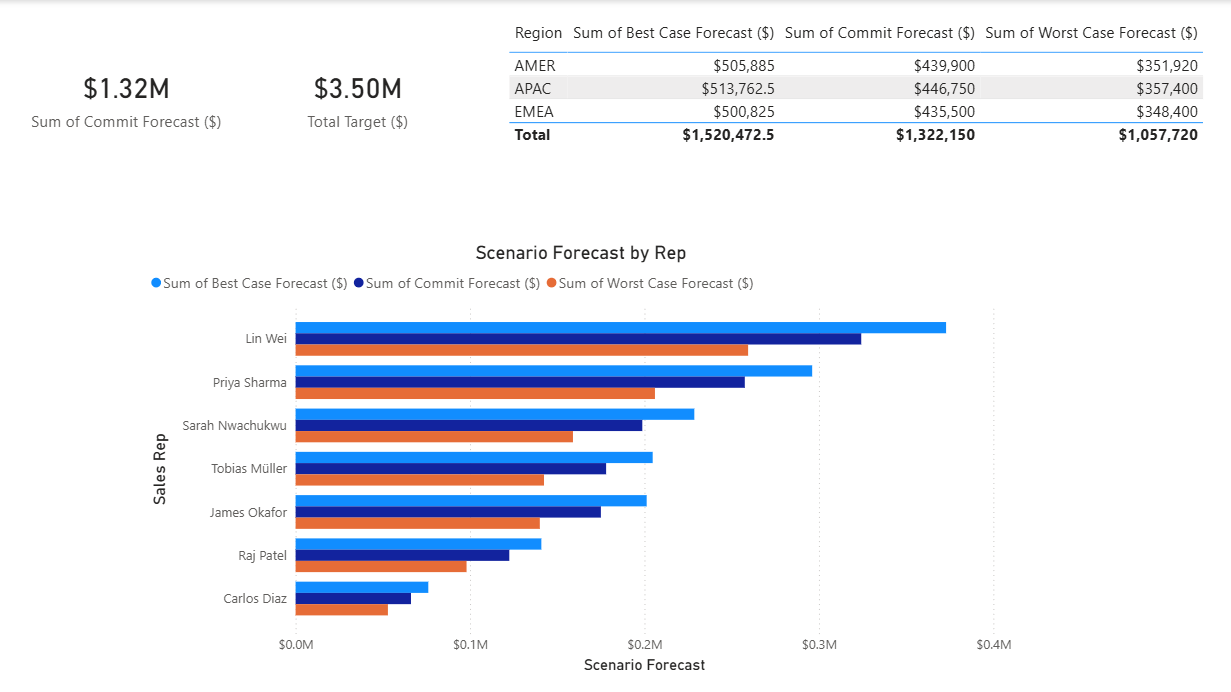

Layout of this report page (visuals, bound fields, positions):
{"tool":"powerbi","page":{"name":"Scenario Comparison","canvas":[1280,720],"ordinal":3},"visuals":[{"type":"card","fields":{"Values":["Sum(PBI Data Model.Commit Forecast ($))"]},"box":[20,20,220.6,160],"z":0},{"type":"card","fields":{"Values":["PBI Data Model.Total Target ($)"]},"box":[260,20,220,160],"z":1000},{"type":"clusteredBarChart","title":"Scenario Forecast by Rep","fields":{"Category":["PBI Data Model.Sales Rep"],"Y":["Sum(PBI Data Model.Best Case Forecast ($))","Sum(PBI Data Model.Commit Forecast ($))","Sum(PBI Data Model.Worst Case Forecast ($))"]},"box":[150,250,900,450],"z":2000},{"type":"tableEx","fields":{"Values":["PBI Data Model.Region","Sum(PBI Data Model.Best Case Forecast ($))","Sum(PBI Data Model.Commit Forecast ($))","Sum(PBI Data Model.Worst Case Forecast ($))"]},"box":[520.4,15.9,745.3,168.7],"z":2001}]}

Visuals, with their boxes in screenshot pixels (x1, y1, x2, y2), scaled from the page's 1280x720 canvas onto the 1231x692 screenshot:
card - Sum(PBI Data Model.Commit Forecast ($)): bbox=(19, 19, 231, 173)
card - PBI Data Model.Total Target ($): bbox=(250, 19, 462, 173)
"Scenario Forecast by Rep" clusteredBarChart: bbox=(144, 240, 1010, 673)
tableEx - PBI Data Model.Region x Sum(PBI Data Model.Best Case Forecast ($)): bbox=(500, 15, 1217, 177)
